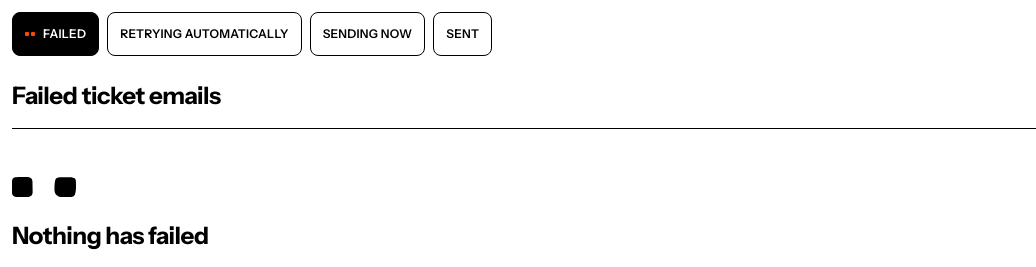
EmailOutbox › switches status with pressed toggle buttons
This screenshot has width=1036, height=267.
Expected: the text "Nothing has failed" is shown, [12,221,209,250]
Step 1. Click the button "Sent" → {"x": 463, "y": 34}, box [433,12,492,56]
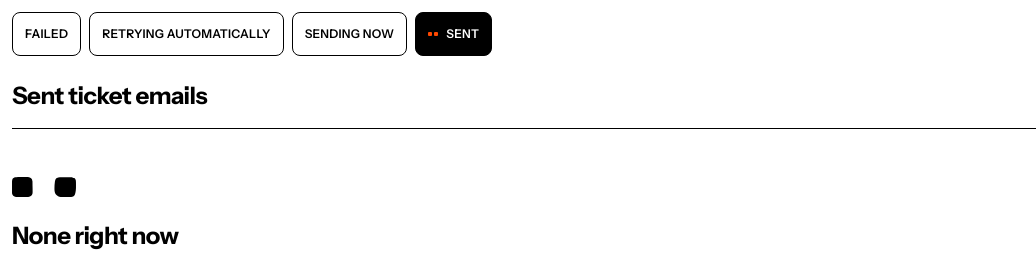
Expected: the heading "Sent ticket emails" is shown, [12,81,207,110]
